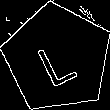L_NW: (33, 29, 82, 88)
